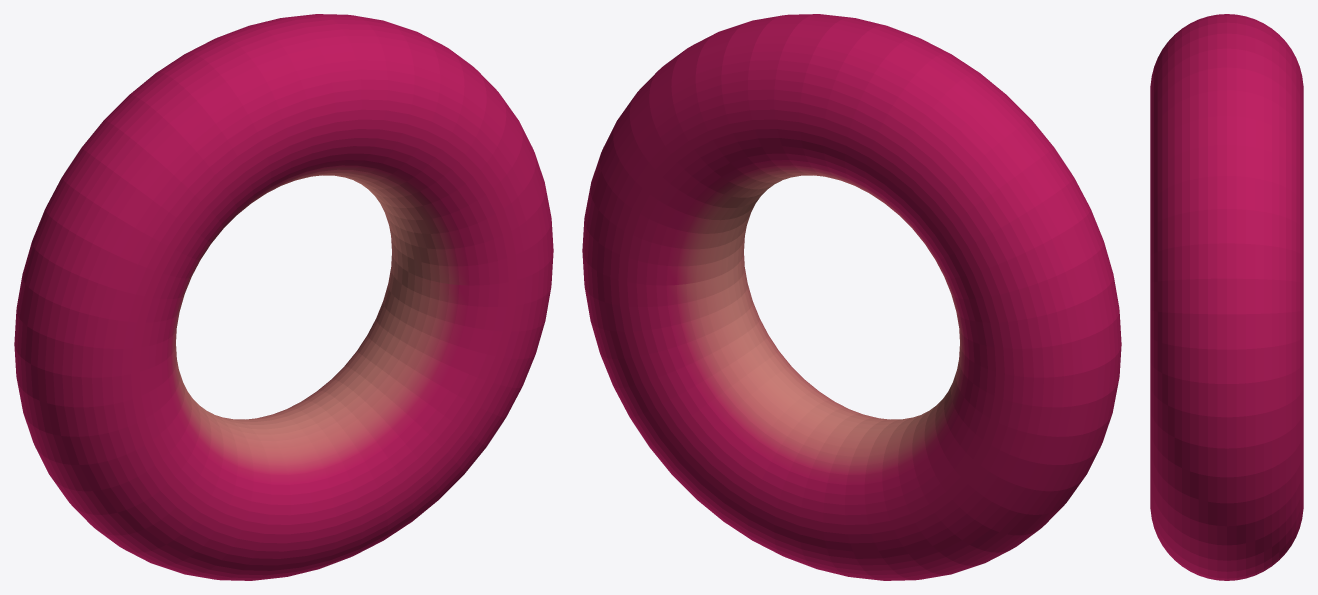
3 views of the same model, side by side, from view 1: azimuth 30°, elevation 25°; view 2: azimuth 150°, elevation 25°; view 3: azimuth 270°, elevation 25° (orthographic). The views are drawn at different scales.
Parts seen in each view (by area): view 1: world; view 2: world; view 3: world.
Boxes of the visible parts, <box> form: world: <box>14,14,553,580</box>; world: <box>582,14,1121,580</box>; world: <box>1150,14,1303,580</box>.
Size of the model in its own units: 31.07 by 31.01 by 8.38.
